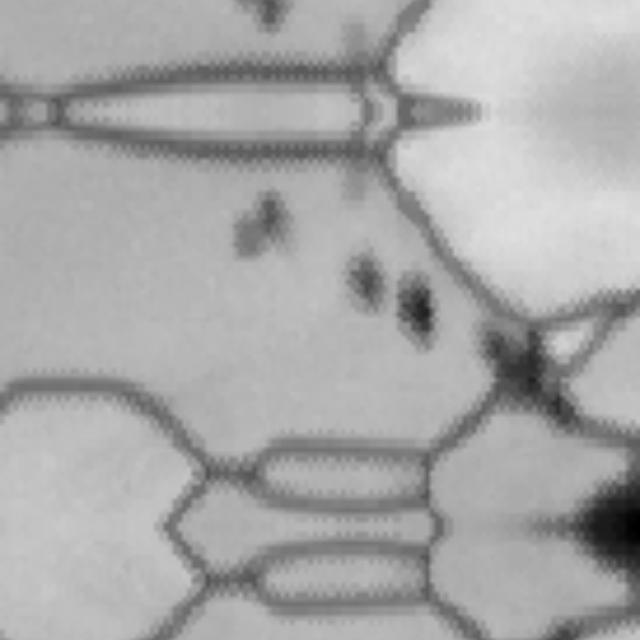good_void: (472, 322, 585, 440), (228, 191, 300, 264), (336, 242, 396, 322), (396, 265, 442, 356), (336, 11, 381, 76), (336, 149, 381, 213), (230, 0, 299, 33)
